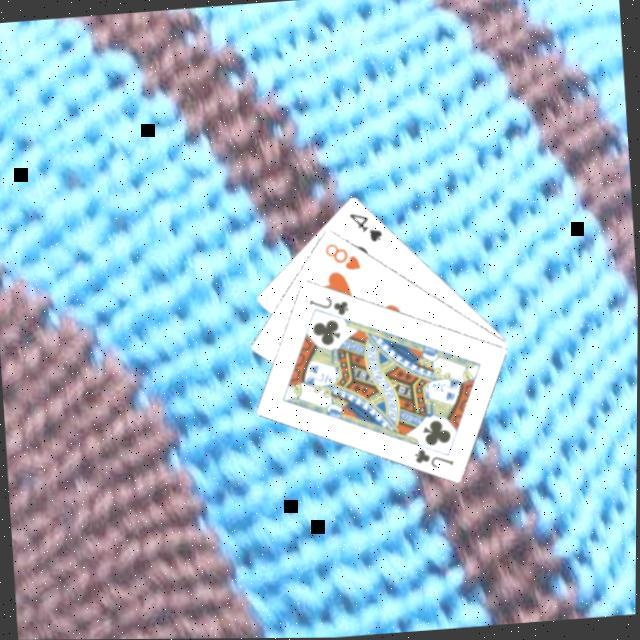4S: (346, 206, 386, 244)
8H: (322, 234, 366, 274)
JC: (411, 440, 458, 470), (306, 288, 352, 318)
